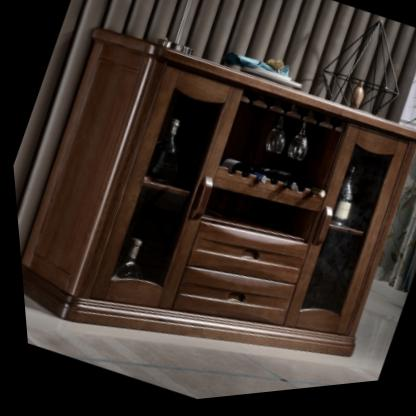Cupboard: (16, 30, 416, 366)
